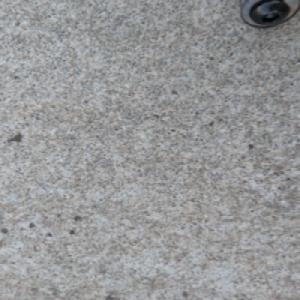BoltWasher: (240, 0, 299, 28)
